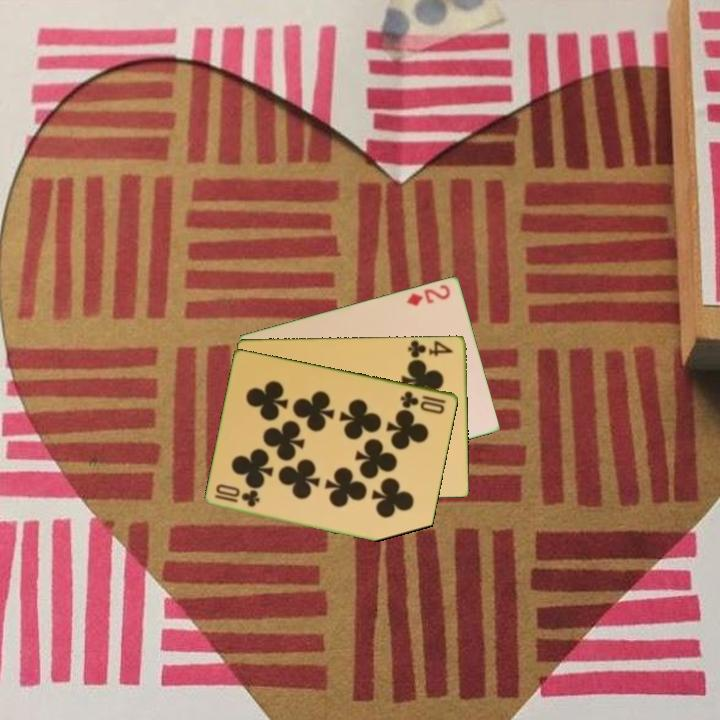10c: (397, 387, 449, 416), (211, 482, 263, 510)
2d: (403, 281, 453, 308)
4c: (405, 337, 456, 362)
